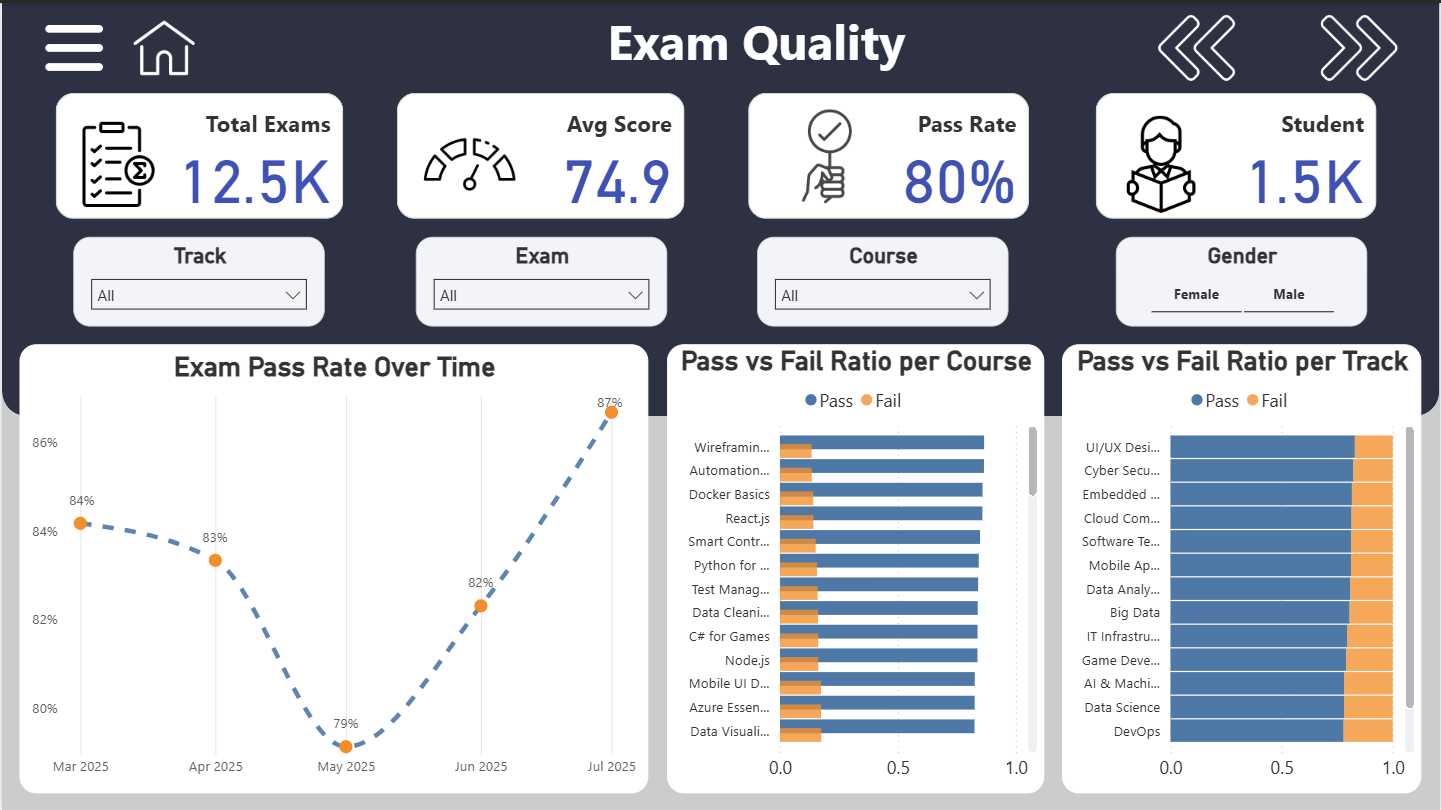

Layout of this report page (visuals, bound fields, positions):
{"tool":"powerbi","page":{"name":"11.Exam Quality","canvas":[1280,720],"ordinal":10},"visuals":[{"type":"shape","box":[0,0,1280,368],"z":0},{"type":"cardVisual","fields":{"Data":["Dim_Exam.Avg_Exam_Score"]},"box":[352,80,256,112],"z":1000},{"type":"cardVisual","fields":{"Data":["Fact_Exam_Result.Total_Exams_Taken"]},"box":[48,80,256,112],"z":2000},{"type":"cardVisual","fields":{"Data":["Fact_Exam_Result.Pass_Rate"]},"box":[664.9,79.9,250,112],"z":3000},{"type":"cardVisual","fields":{"Data":["CountNonNull(Dim_student.stud_SK)"]},"box":[974.2,79.9,250,112],"z":4000},{"type":"clusteredBarChart","title":"Pass vs Fail Ratio per Course","fields":{"Category":["Dim_Courses.Course_Name"],"Y":["Dim_Exam.Exam_Pass_Rate","Fact_Exam_Result.Fail_Rate"]},"box":[592,304,336,400],"z":5000},{"type":"slicer","title":"Course","fields":{"Values":["Dim_Courses.Course_Name"]},"box":[672,208,224,80],"z":6000},{"type":"slicer","title":"Track","fields":{"Values":["Dim_Track.Track_Name"]},"box":[64,208,224,80],"z":7000},{"type":"slicer","title":"Exam","fields":{"Values":["Dim_Exam.Exam_Name"]},"box":[368,208,224,80],"z":8000},{"type":"lineChart","title":"Exam Pass Rate Over Time","fields":{"Category":["DimDate.Date.Variation.Date Hierarchy.Year","DimDate.Date.Variation.Date Hierarchy.Month"],"Y":["Dim_Exam.Exam_Pass_Rate"]},"box":[16,304,560,400],"z":9000},{"type":"textbox","box":[528,0,288,80],"z":10000},{"type":"barChart","title":"Pass vs Fail Ratio per Track","fields":{"Category":["Dim_Track.Track_Name"],"Y":["Dim_Exam.Exam_Pass_Rate","Fact_Exam_Result.Fail_Rate"]},"box":[944,304,320,400],"z":11000},{"type":"slicer","title":"Gender","fields":{"Values":["Dim_student.Gender"]},"box":[992,208,224,80],"z":12000},{"type":"image","box":[48,96,112,96],"z":13000},{"type":"image","box":[368,96,96,96],"z":14000},{"type":"image","box":[688,80,96,112],"z":15000},{"type":"image","box":[976,96,112,96],"z":16000},{"type":"image","box":[1136,0,144,80],"z":17000},{"type":"image","box":[992,0,144,80],"z":18000},{"type":"image","box":[32,0,64,80],"z":19000},{"type":"image","box":[112,0,64,80],"z":20000}]}

Visuals, with their boxes in screenshot pixels (x1, y1, x2, y2), scaled from the page's 1280x720 canvas onto the 1441x810 screenshot:
shape: [0,0,1440,414]
cardVisual - Dim_Exam.Avg_Exam_Score: [396,90,684,216]
cardVisual - Fact_Exam_Result.Total_Exams_Taken: [54,90,342,216]
cardVisual - Fact_Exam_Result.Pass_Rate: [749,90,1030,216]
cardVisual - CountNonNull(Dim_student.stud_SK): [1097,90,1378,216]
"Pass vs Fail Ratio per Course" clusteredBarChart: [666,342,1045,792]
"Course" slicer: [757,234,1009,324]
"Track" slicer: [72,234,324,324]
"Exam" slicer: [414,234,666,324]
"Exam Pass Rate Over Time" lineChart: [18,342,648,792]
textbox: [594,0,919,90]
"Pass vs Fail Ratio per Track" barChart: [1063,342,1423,792]
"Gender" slicer: [1117,234,1369,324]
image: [54,108,180,216]
image: [414,108,522,216]
image: [775,90,883,216]
image: [1099,108,1225,216]
image: [1279,0,1440,90]
image: [1117,0,1279,90]
image: [36,0,108,90]
image: [126,0,198,90]
